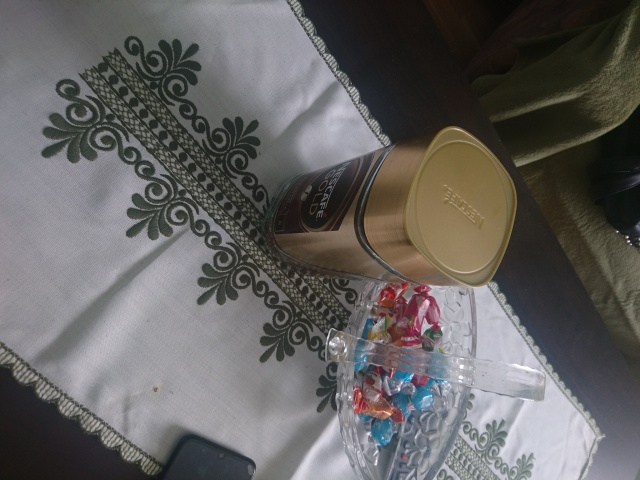Nescafe Gold 225g: (257, 122, 521, 291)
